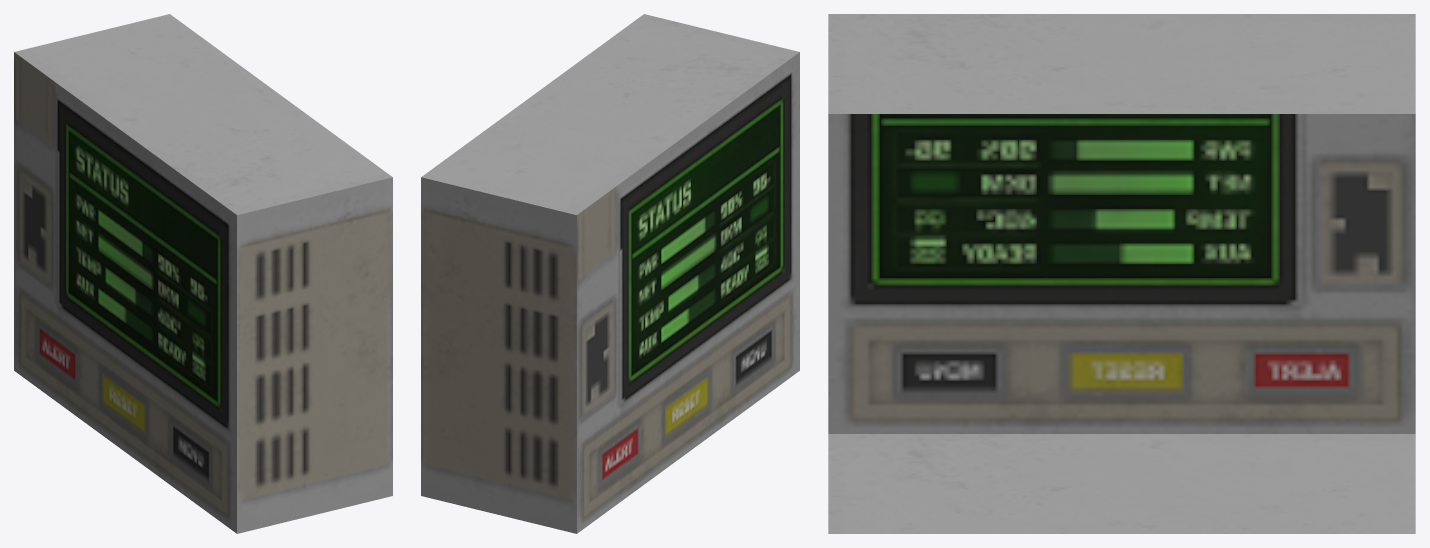
Rendered from CP_Meter_Electric_05.fbx.
The picture shows the model from 3 angles, left to right: view 1: azimuth 30°, elevation 25°; view 2: azimuth 150°, elevation 25°; view 3: azimuth 270°, elevation 25°; orthographic projection. The views are drawn at different scales.
Parts seen in each view (by area): view 1: CP_Meter_Electric_05; view 2: CP_Meter_Electric_05; view 3: CP_Meter_Electric_05.
Part boxes in pixels (x1=…): CP_Meter_Electric_05: x1=14, y1=14, x2=392, y2=533; CP_Meter_Electric_05: x1=421, y1=14, x2=799, y2=533; CP_Meter_Electric_05: x1=828, y1=14, x2=1415, y2=533.
Bounding box in the file's own units: 15.78 × 30.85 × 39.12.
